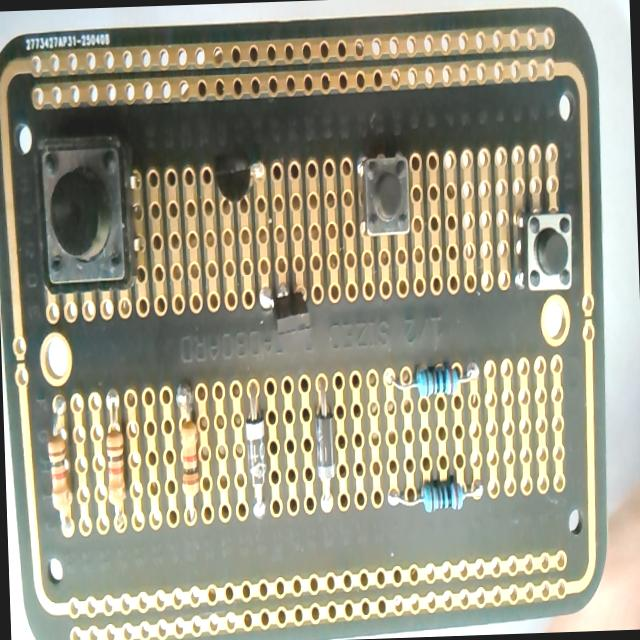diode: (306, 358, 346, 542), (242, 378, 276, 542)
resistor: (372, 347, 482, 410), (381, 471, 489, 533), (43, 380, 79, 546), (170, 378, 206, 540), (100, 386, 128, 546)
switch: (32, 128, 140, 303), (513, 201, 574, 299), (356, 149, 419, 243)
transistor: (247, 266, 316, 364), (202, 148, 274, 206)
